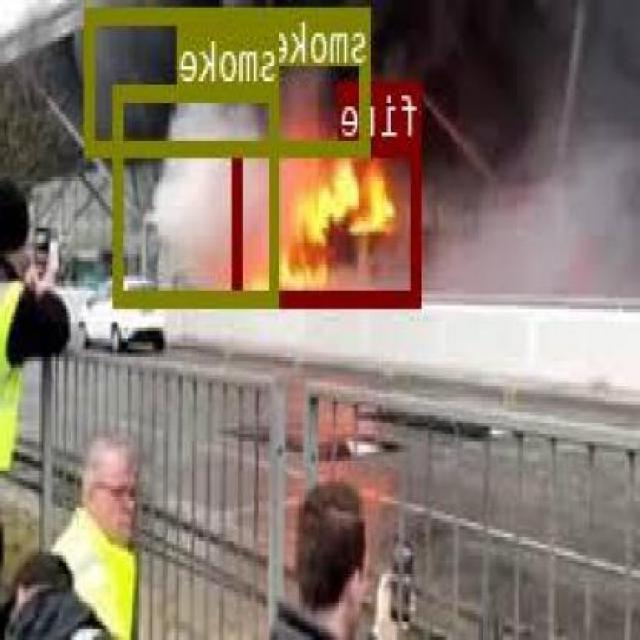Fire: (235, 139, 422, 303)
Smoke: (86, 6, 372, 152), (116, 82, 282, 302)
